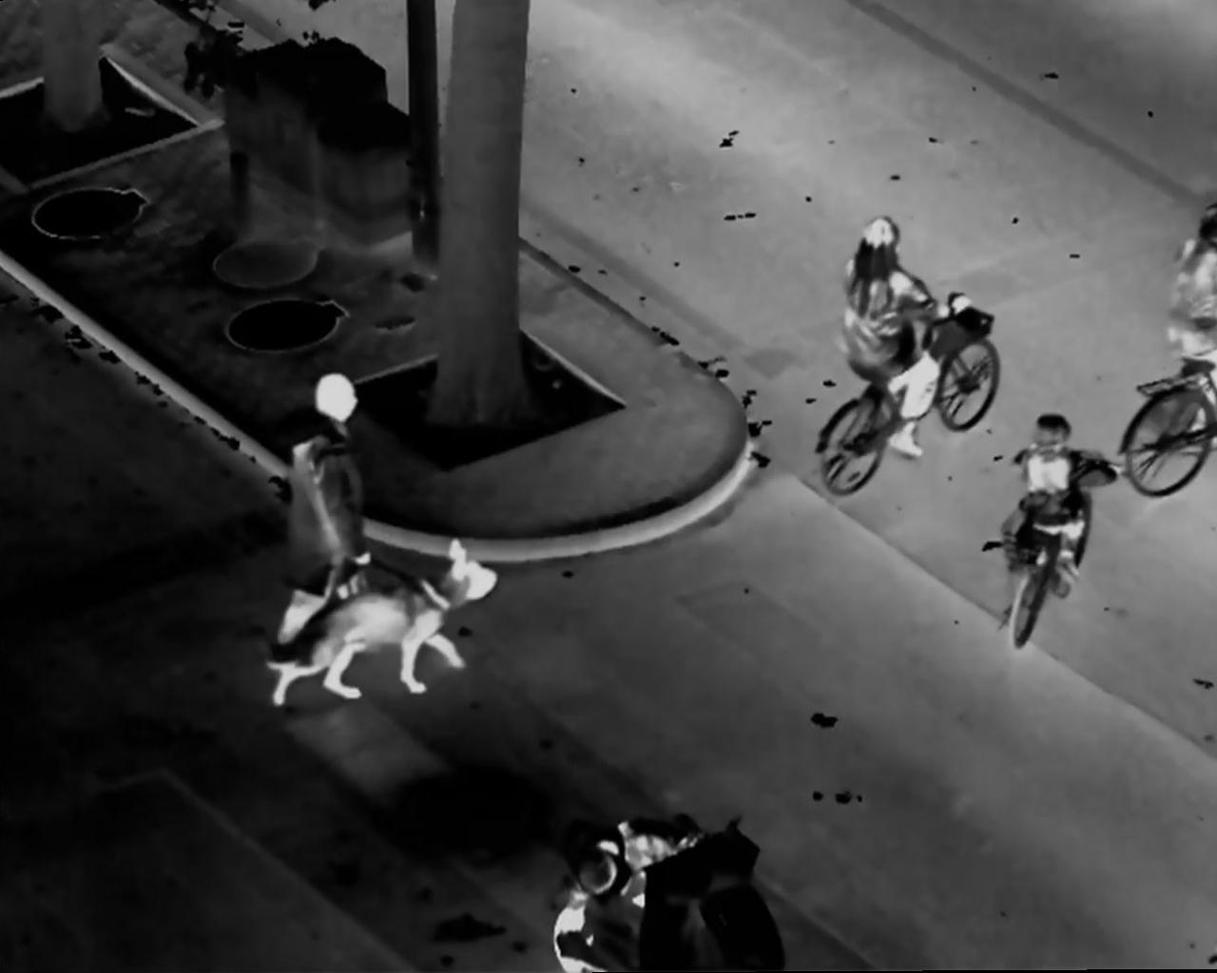person: (278, 365, 375, 667), (840, 214, 943, 467), (555, 801, 706, 973), (1011, 410, 1122, 628), (1169, 188, 1217, 437)
